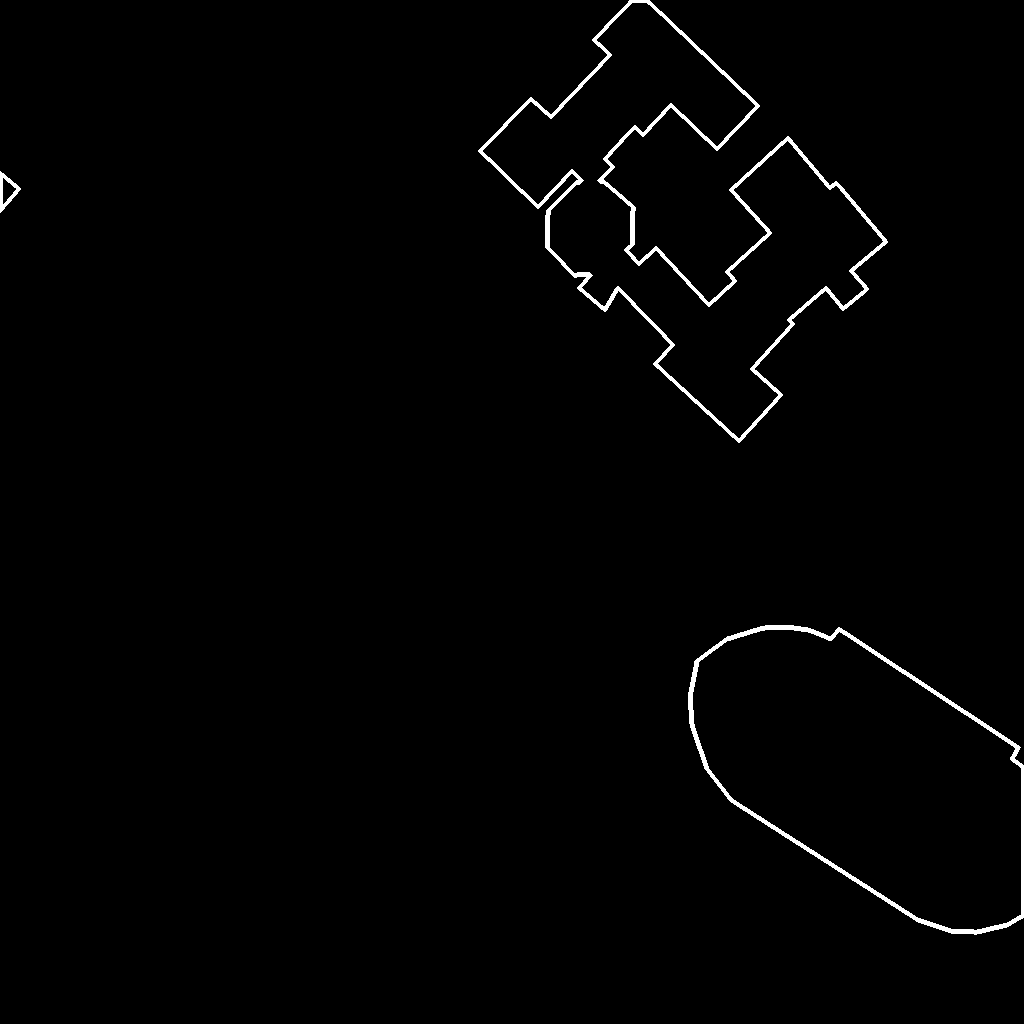building: (547, 138, 887, 442), (690, 627, 1024, 933), (480, 0, 759, 208), (0, 173, 20, 212)
